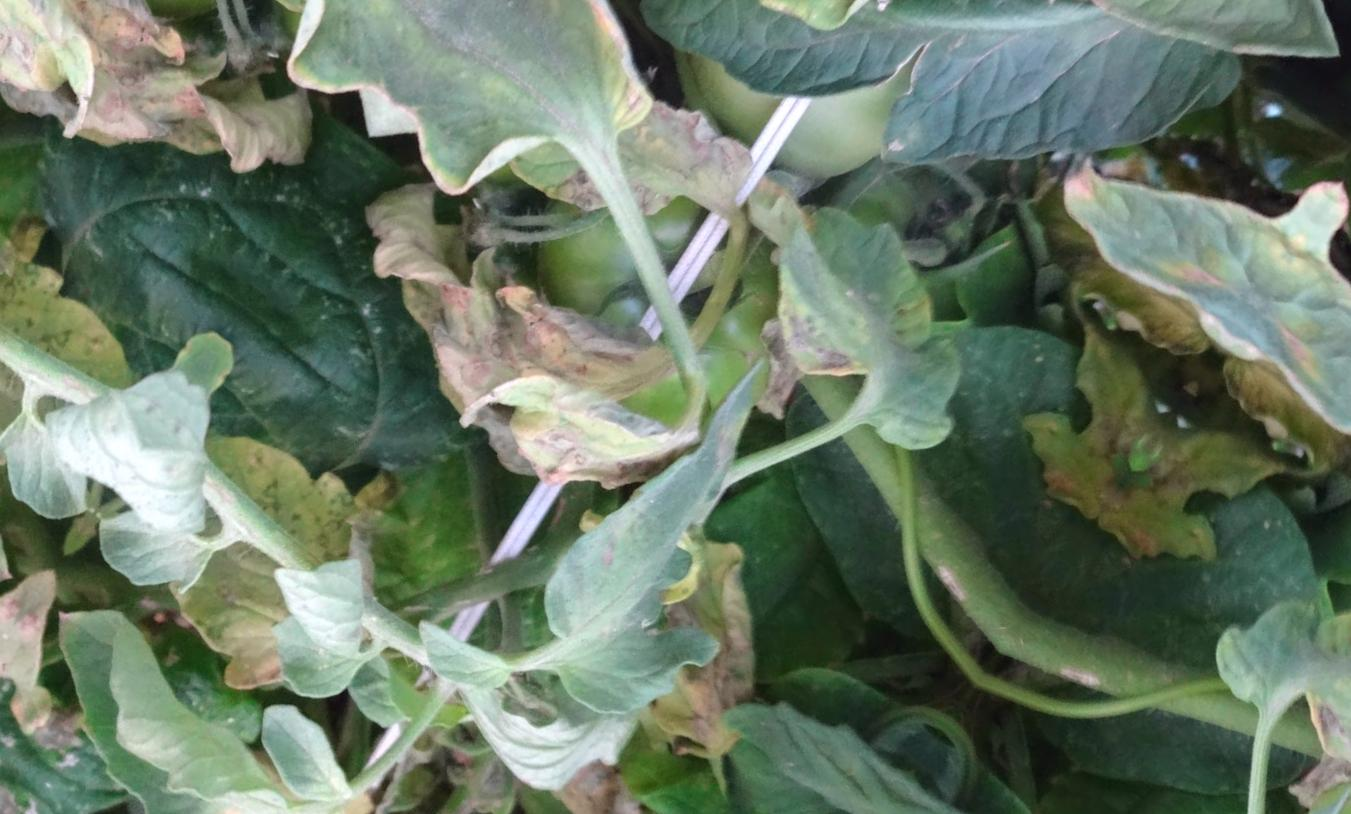Tomato leaf late blight: (493, 334, 883, 770), (989, 0, 1351, 395), (334, 0, 755, 339), (685, 154, 1042, 491), (0, 541, 420, 814)
